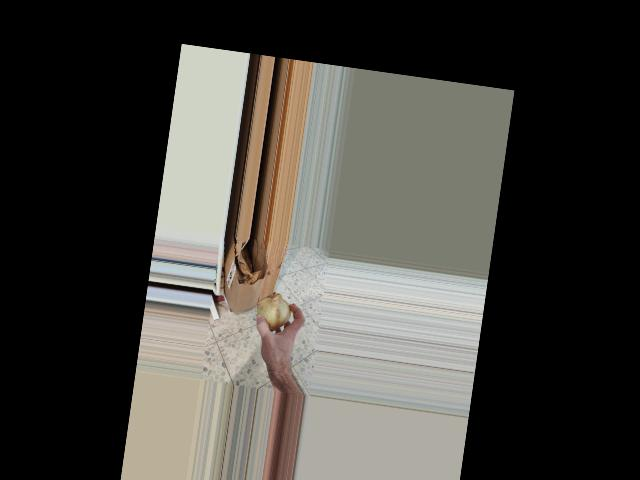onion: (253, 291, 293, 338)
